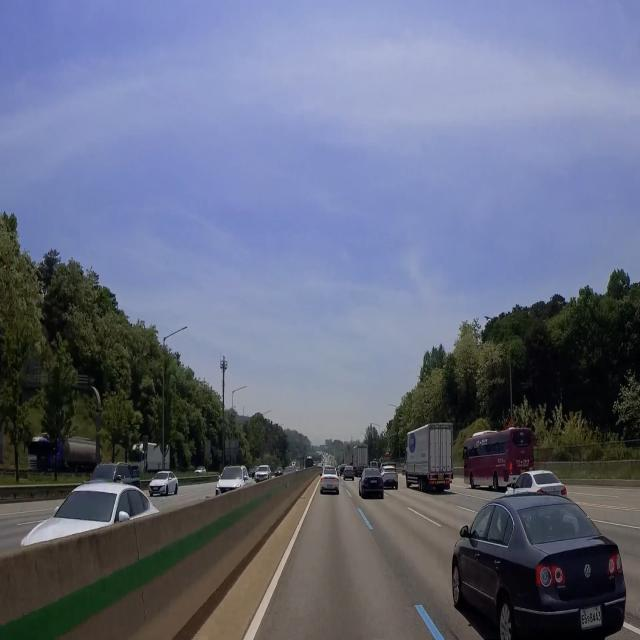car: (577, 602, 606, 634), (547, 489, 560, 499), (436, 472, 447, 483), (370, 478, 378, 485), (327, 484, 334, 489), (387, 478, 394, 483), (153, 487, 159, 492)
